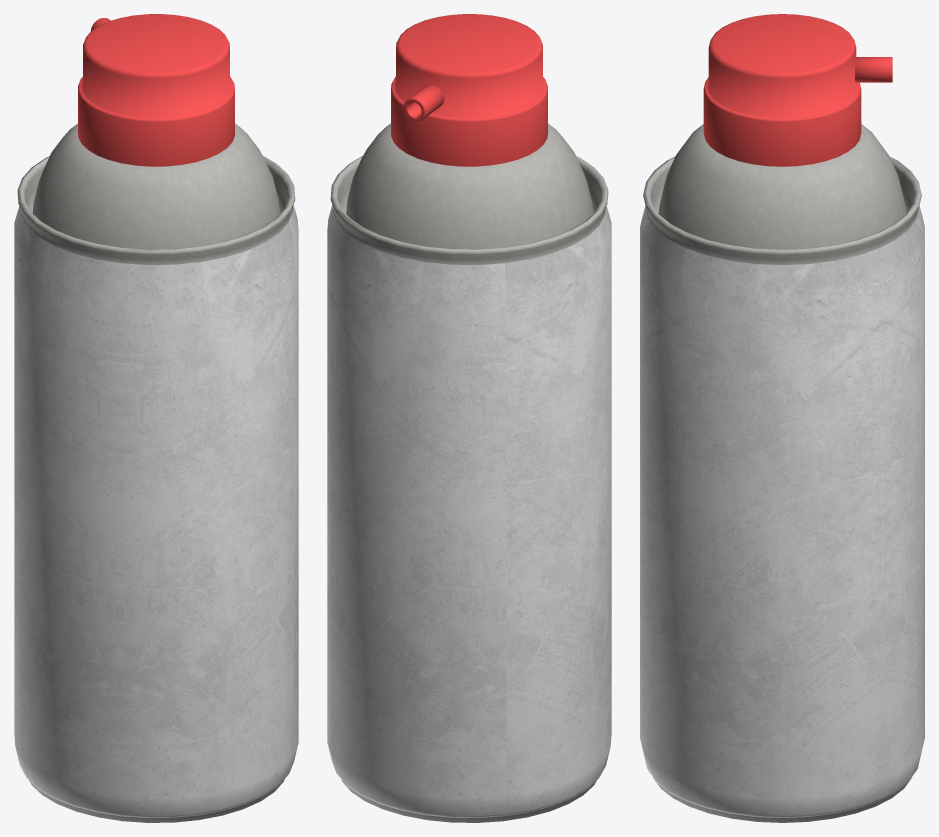
The model's file is compressed_air_can.glb.
3 renders of one model, left to right at view 1: azimuth 30°, elevation 25°; view 2: azimuth 150°, elevation 25°; view 3: azimuth 270°, elevation 25°, orthographic.
Visible parts, largest first — view 1: Cylinder_0; view 2: Cylinder_0; view 3: Cylinder_0.
Part boxes in pixels (left/top/right/bottom): Cylinder_0: left=14, top=14, right=298, bottom=822; Cylinder_0: left=327, top=14, right=611, bottom=822; Cylinder_0: left=640, top=14, right=924, bottom=822.
Size of the model in its own units: 2 by 5.61 by 2.
Materials: 3 (2 with a texture image).
